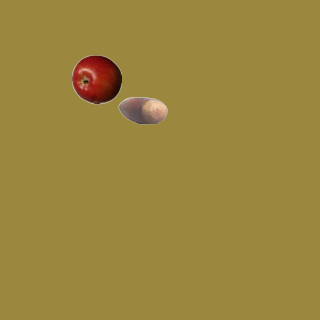Apple Braeburn: (71, 54, 121, 104)
Hazelnut: (117, 85, 167, 135)
